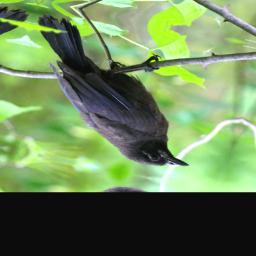Crow: (0, 12, 231, 174)
